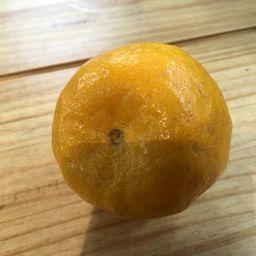Ripe: (51, 42, 233, 221)
